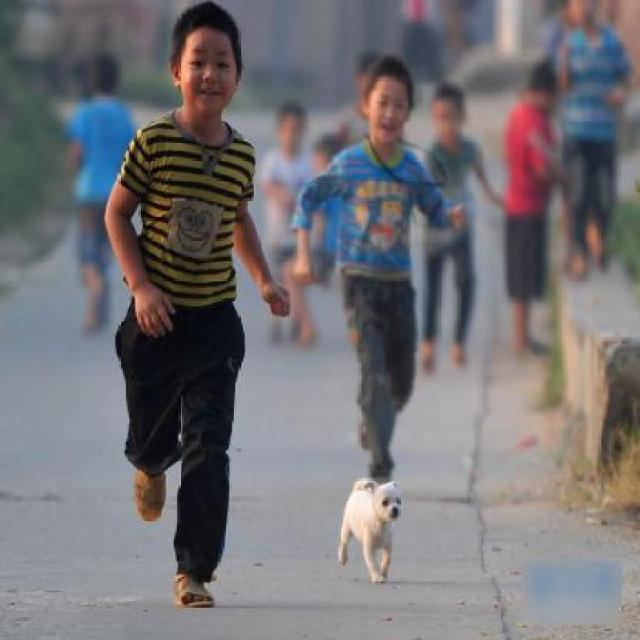Person: (80, 0, 281, 638)
